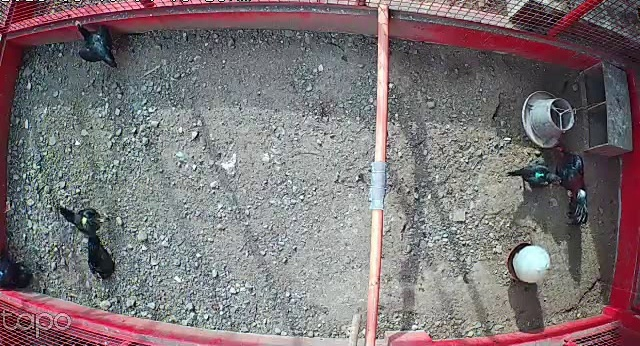Chicken: (69, 15, 123, 71), (53, 198, 111, 235), (80, 233, 120, 280), (505, 160, 563, 189), (0, 248, 39, 290)
Rooster: (554, 141, 595, 227)
Saddle_Color_Yellow: (81, 215, 88, 227)
